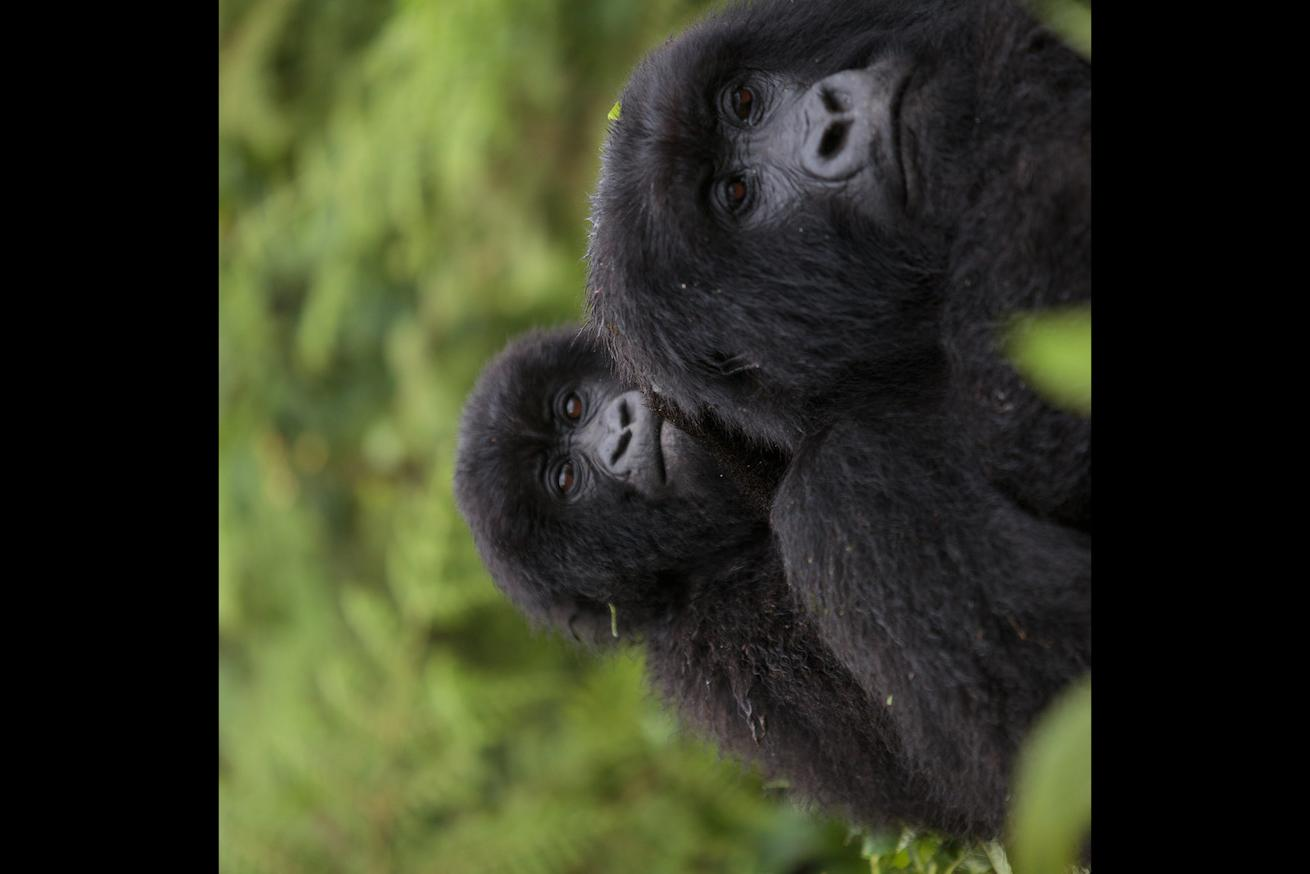goriile_montagne: (586, 0, 1092, 527), (409, 310, 838, 867)
